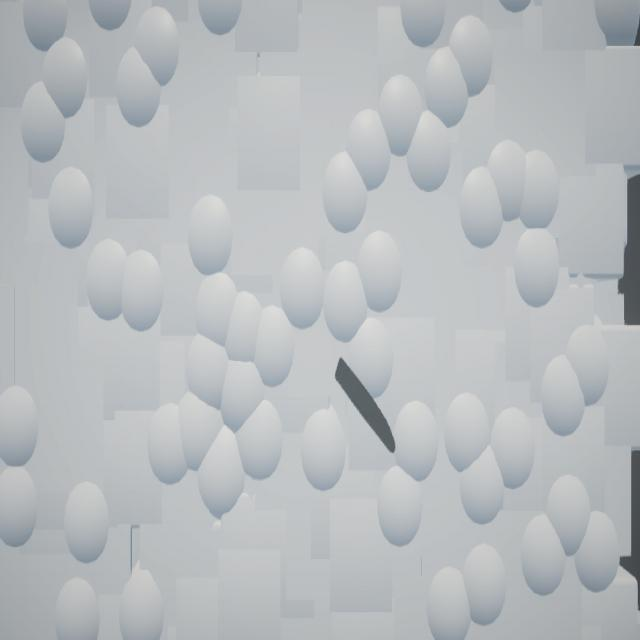top_knife: (336, 357, 397, 454)
